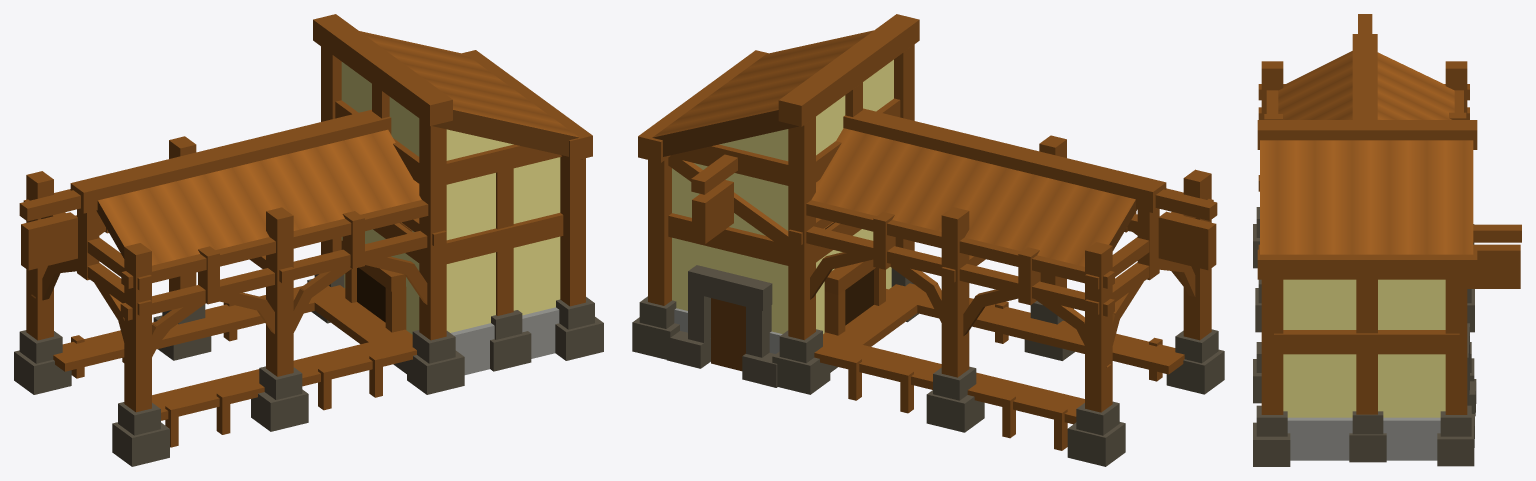
Rendered from butcher.fbx.
The picture shows the model from 3 angles, left to right: view 1: azimuth 30°, elevation 25°; view 2: azimuth 150°, elevation 25°; view 3: azimuth 270°, elevation 25°; orthographic projection. The views are drawn at different scales.
Visible parts, largest first — view 1: polySurface168; view 2: polySurface168; view 3: polySurface168.
Part boxes in pixels (x1,y1,x2,y2): polySurface168: (14, 14, 603, 466); polySurface168: (632, 14, 1224, 466); polySurface168: (1253, 14, 1521, 466).
Size of the model in its own units: 231 by 122 by 110.
Materials: 1 (1 with a texture image).
